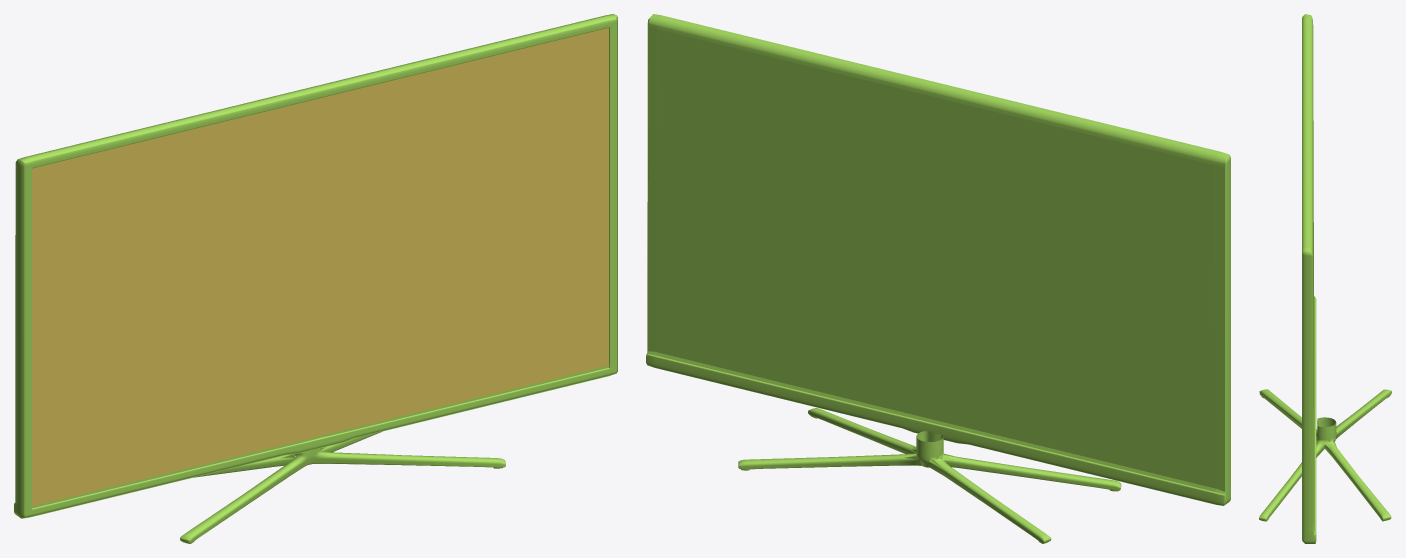
File: TV_Gen_3.fbx
3 views of the same model, side by side, from view 1: azimuth 30°, elevation 25°; view 2: azimuth 150°, elevation 25°; view 3: azimuth 270°, elevation 25° (orthographic). The views are drawn at different scales.
Visible parts, largest first — view 1: mesh_screen, mesh_body; view 2: mesh_body; view 3: mesh_body.
Boxes of the visible parts, <box> form: mesh_screen: <box>32,28,608,506</box>; mesh_body: <box>14,14,617,543</box>; mesh_body: <box>646,14,1230,543</box>; mesh_body: <box>1259,14,1391,543</box>.
Size of the model in its own units: 123 by 78.66 by 29.
